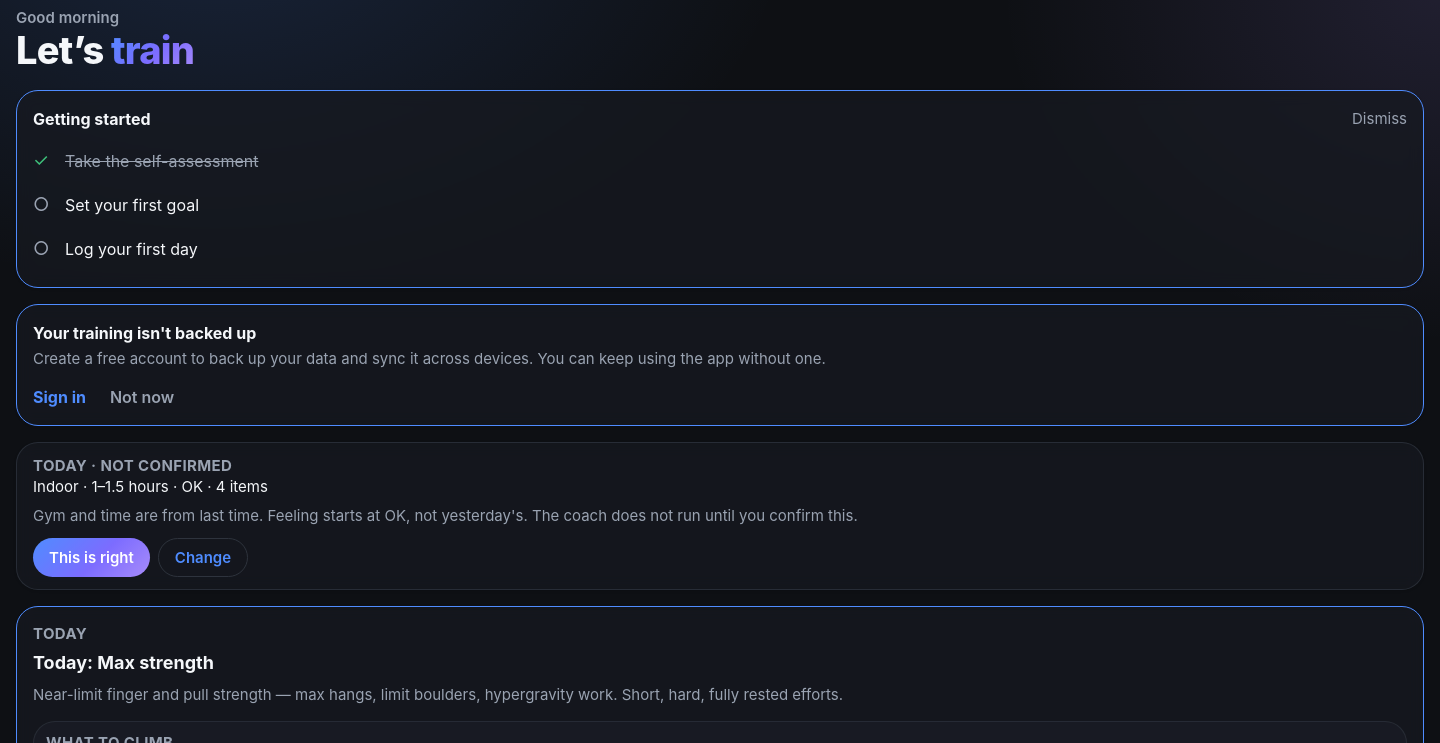
Test: TrainHome — the daily check-in › rebuilds the plan when readiness changes, and persists the answer
Step 1. Click the button "Change" → (203, 558), box [158,538,248,577]
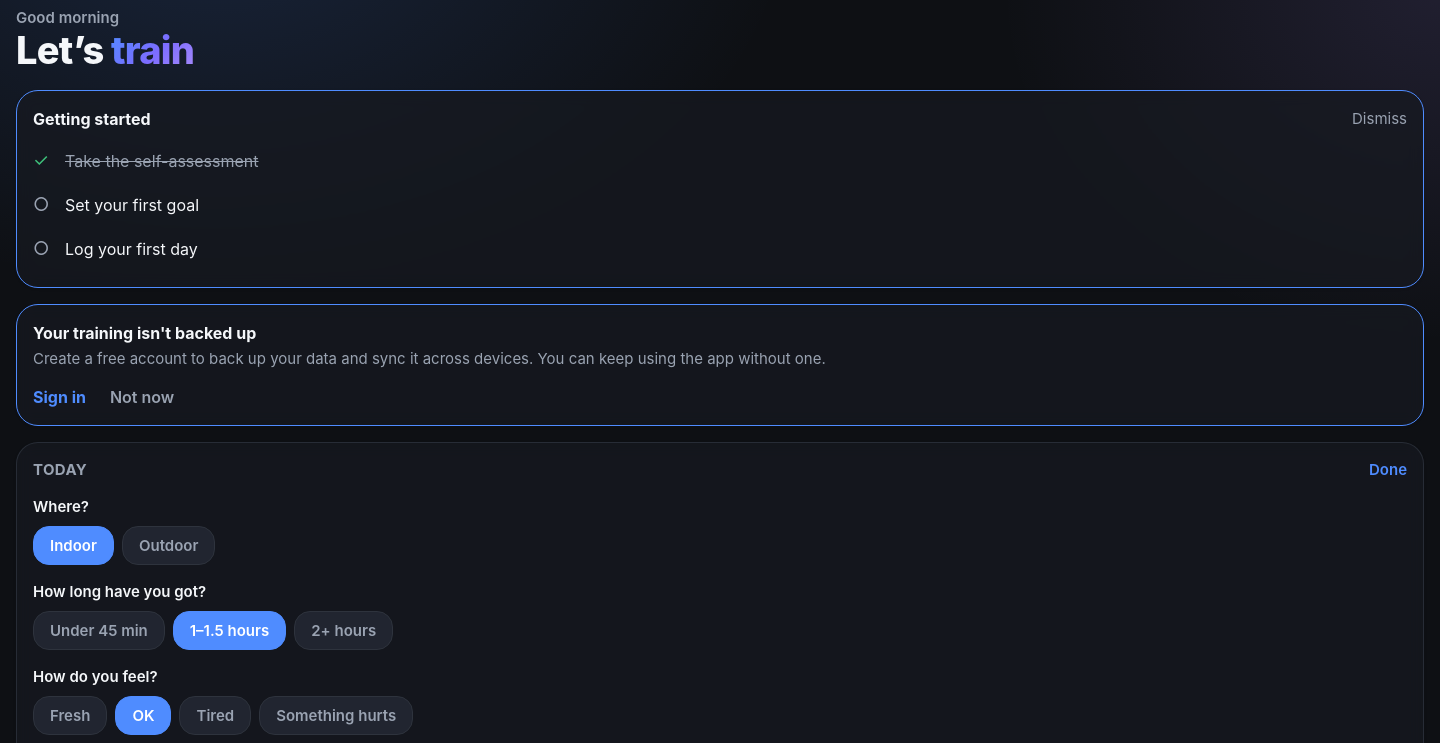
Step 2. Click the button "Something hurts" → (336, 715), box [259,696,413,735]
(page scrolled)
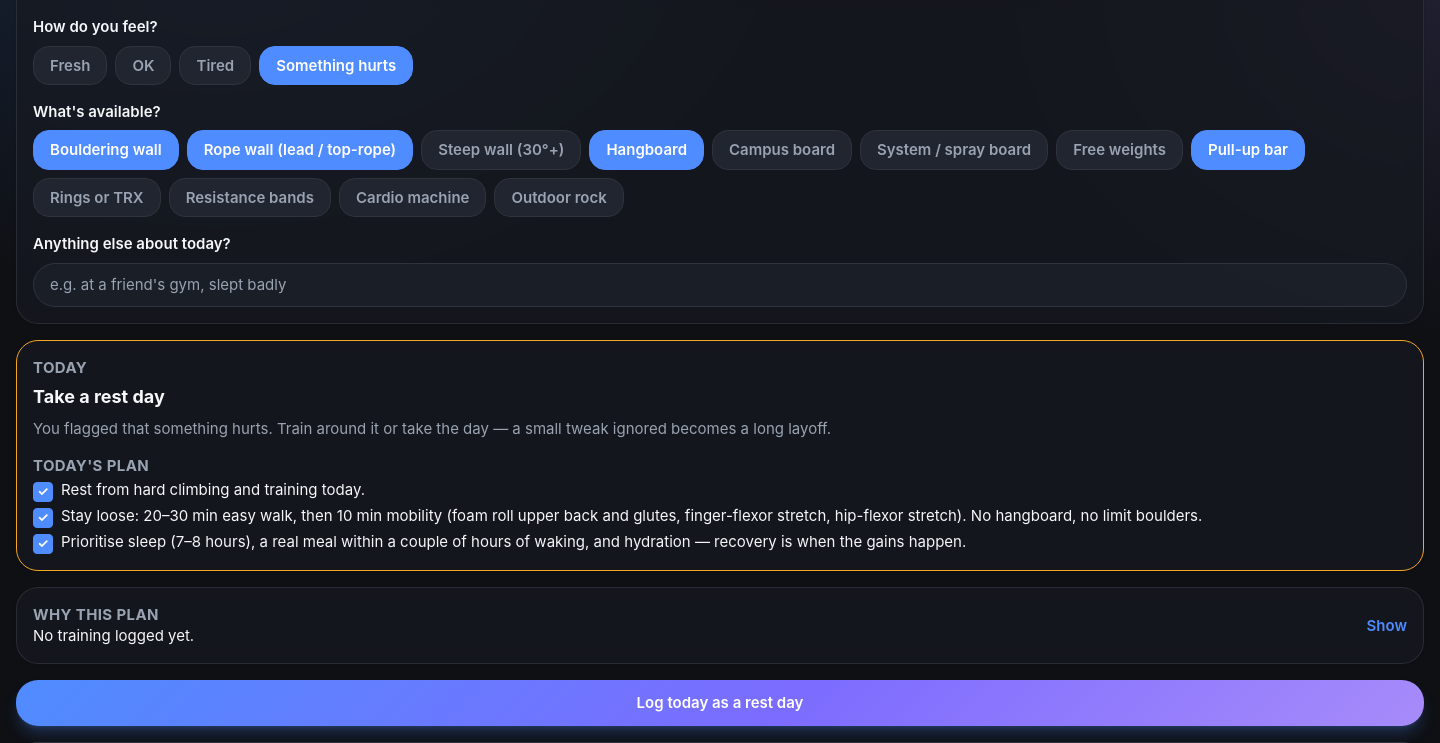
Expected: the heading "Take a rest day" is shown, [33,386,165,407]
